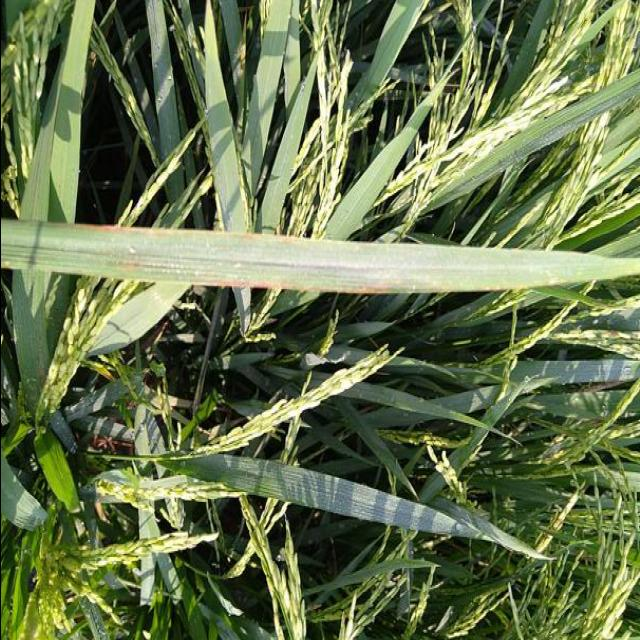Leaf Streak: (0, 219, 640, 295)
